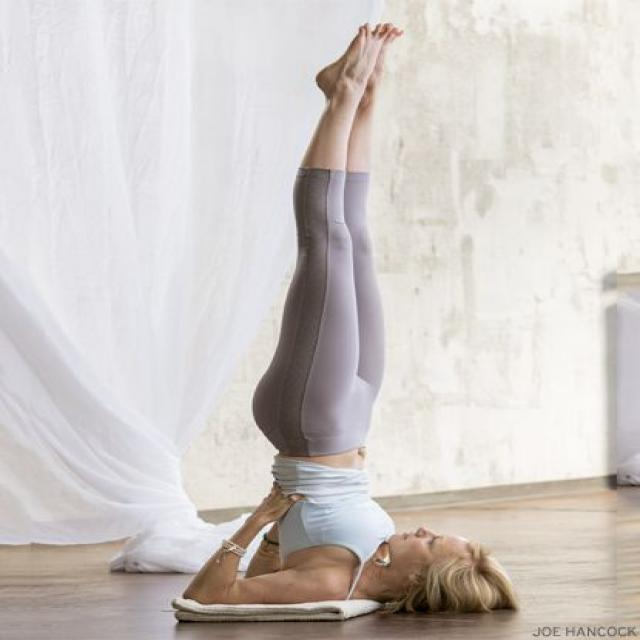yoga-pose shoulderstand: (164, 25, 514, 613)
